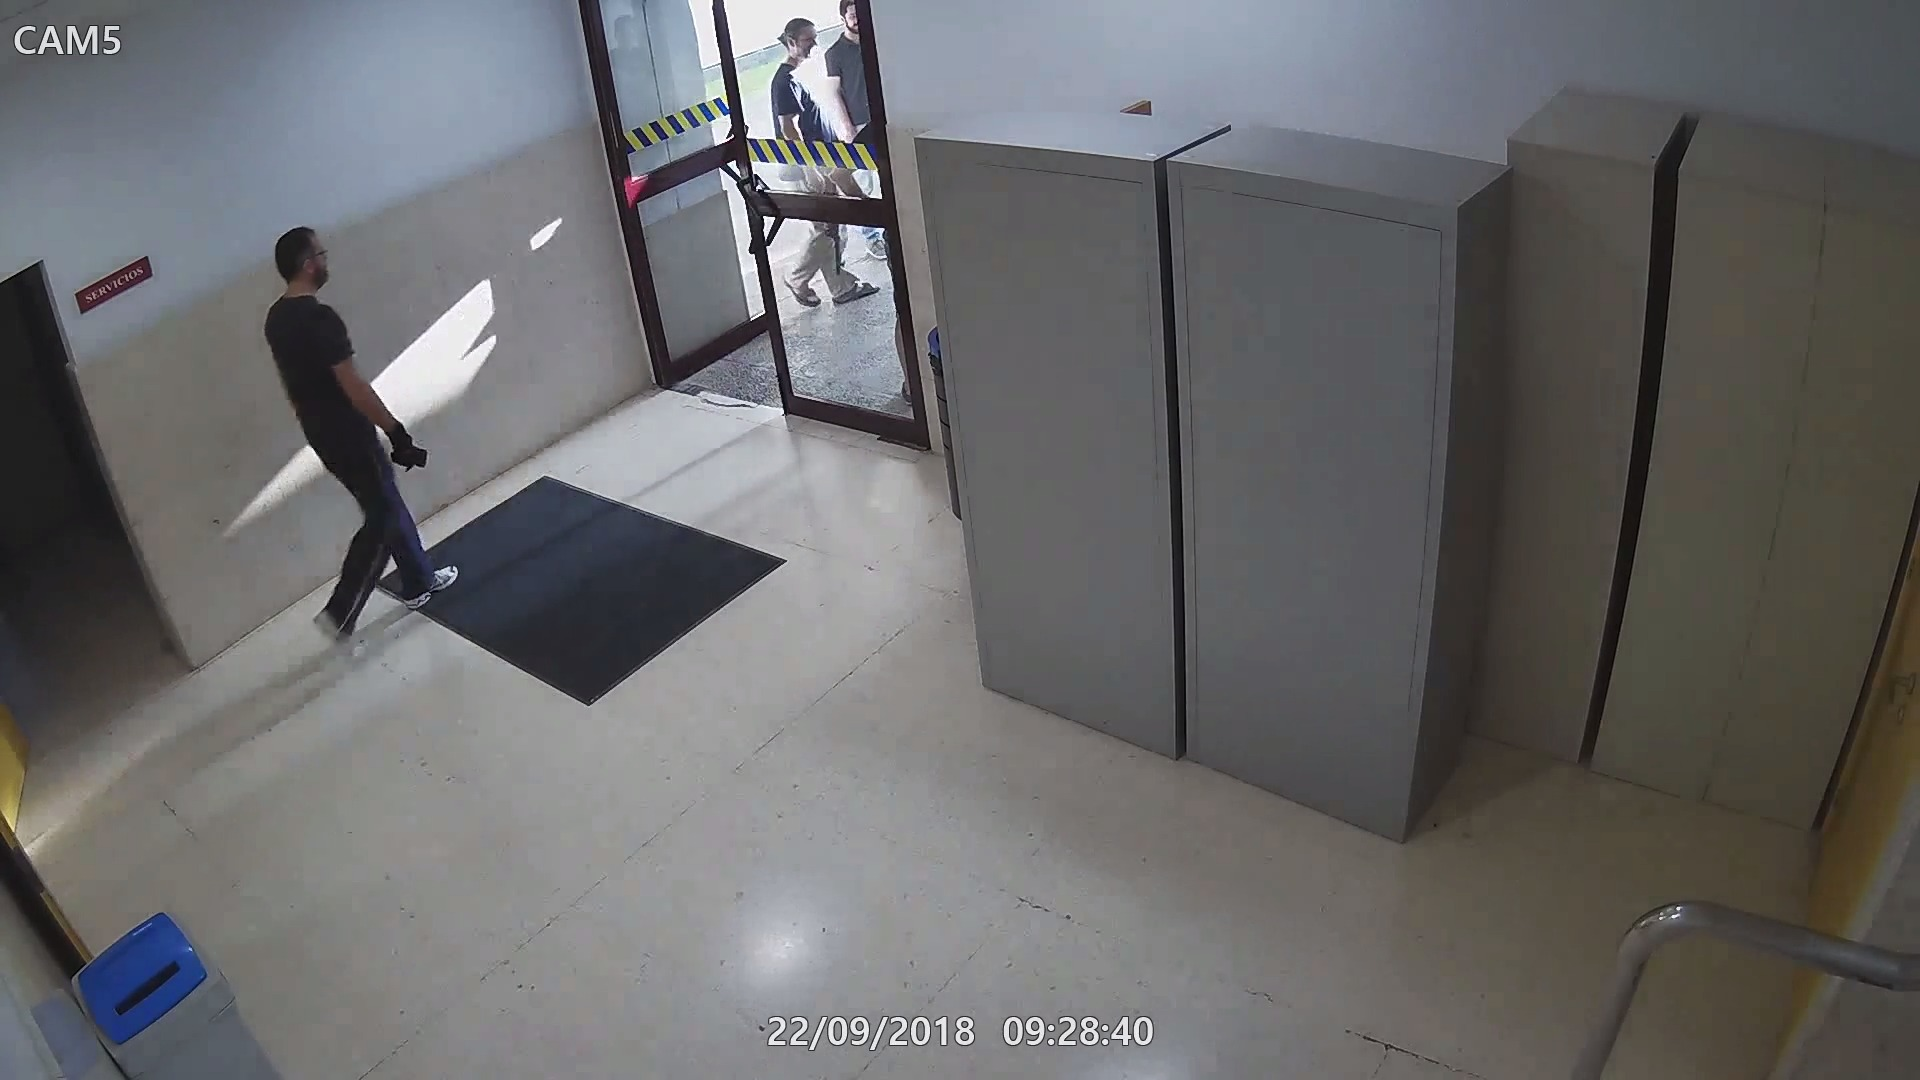Short_rifle: (802, 170, 844, 282)
